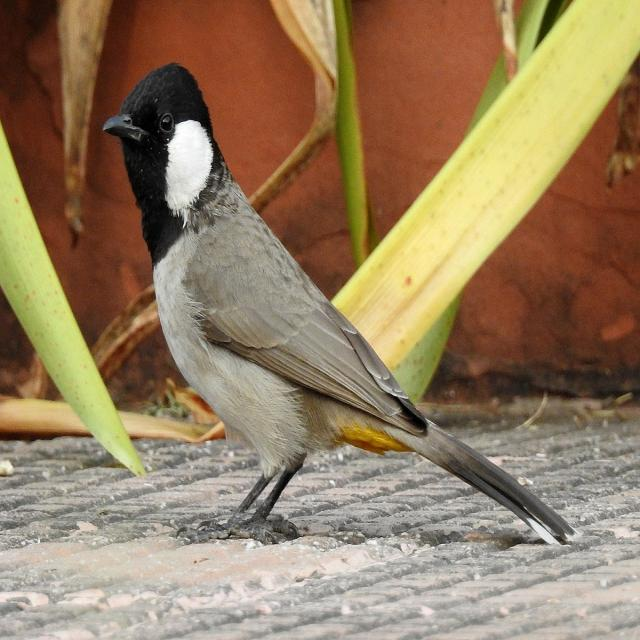bird: (98, 59, 577, 557)
